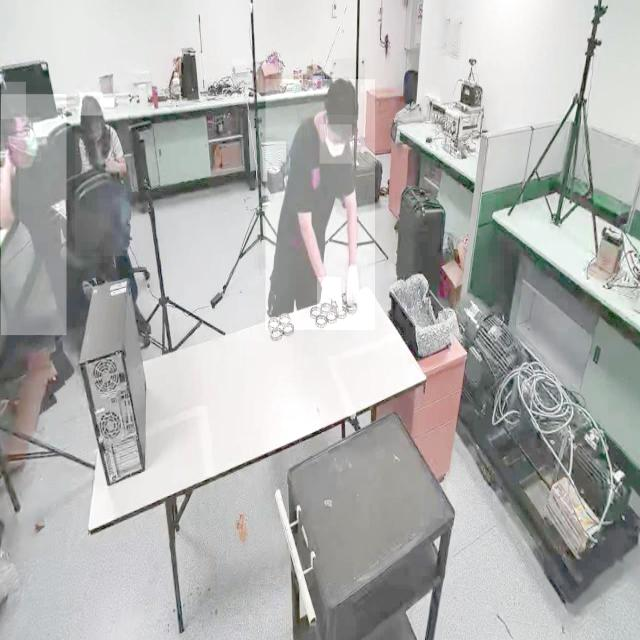face_mask: (13, 117, 42, 162), (320, 125, 352, 164)
hand_glove: (316, 278, 341, 316), (344, 260, 360, 318)
hand_noglove: (0, 146, 18, 235)
head_nohelmet: (324, 76, 364, 115), (0, 82, 26, 120), (79, 92, 103, 116)
person: (265, 79, 375, 331), (1, 94, 66, 336), (74, 90, 132, 257)
